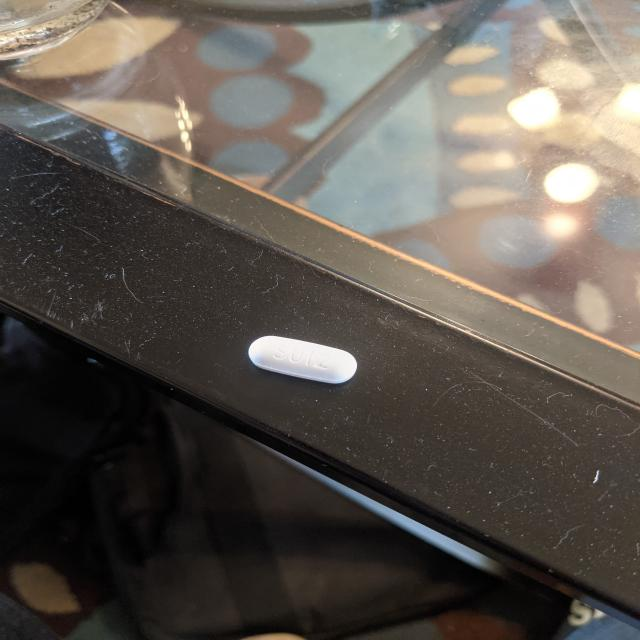non-organic waste: (247, 334, 359, 386)
